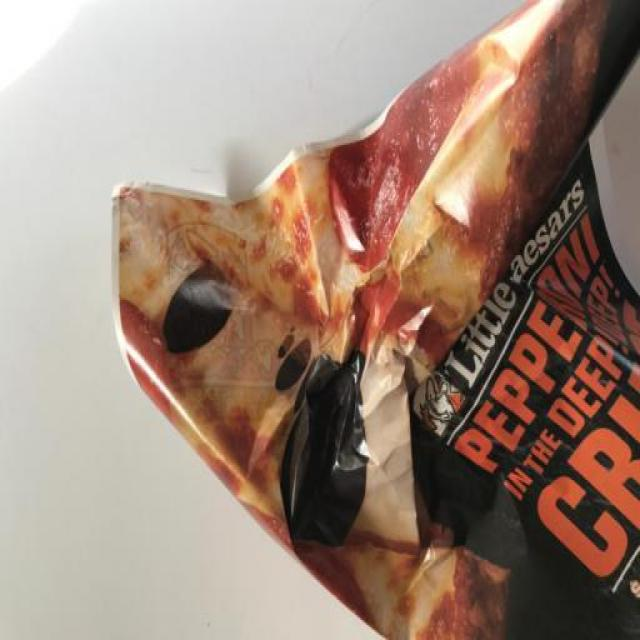paper: (111, 24, 640, 640)
